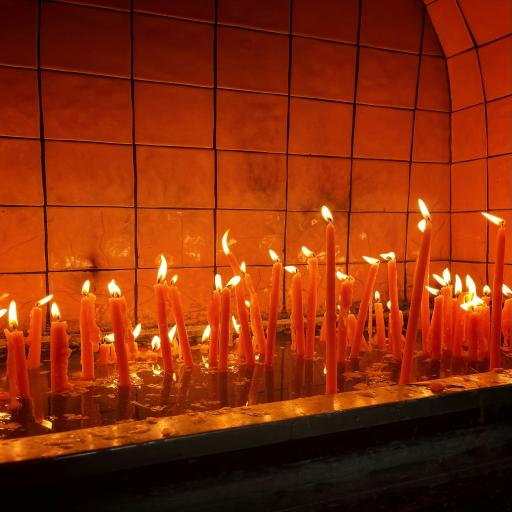candlelight: (401, 219, 432, 384), (323, 224, 339, 396), (108, 282, 133, 382), (4, 306, 28, 408), (489, 223, 506, 363), (168, 276, 194, 367), (49, 303, 72, 394), (382, 253, 402, 352), (78, 287, 98, 379), (234, 270, 253, 364), (247, 278, 266, 365), (155, 276, 172, 371), (26, 296, 46, 370), (268, 254, 282, 358), (336, 272, 352, 360), (304, 251, 317, 359), (206, 286, 220, 367), (291, 272, 303, 363), (218, 284, 230, 370), (222, 230, 242, 279), (452, 294, 466, 362), (466, 308, 480, 368), (475, 304, 488, 360), (375, 293, 386, 352)
